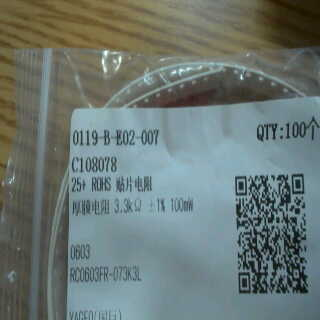3.3kO: (112, 194, 143, 220)
